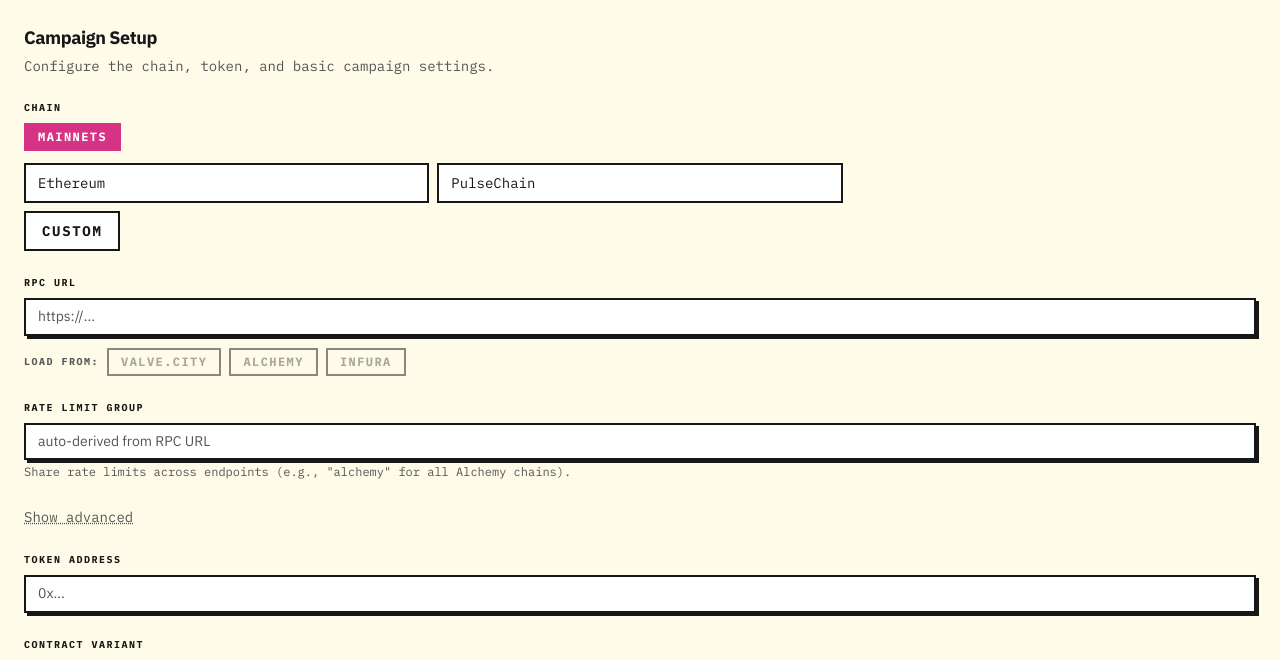
Test case: CampaignStep › shows "Not a valid ERC-20" when probe returns null
In the field with placeholder "0x...": coordinates (640, 594) x1=24 y1=575 x2=1256 y2=612, type "0xA0b86991c6218b36c1d19D4a2e9Eb0cE3606eB48"
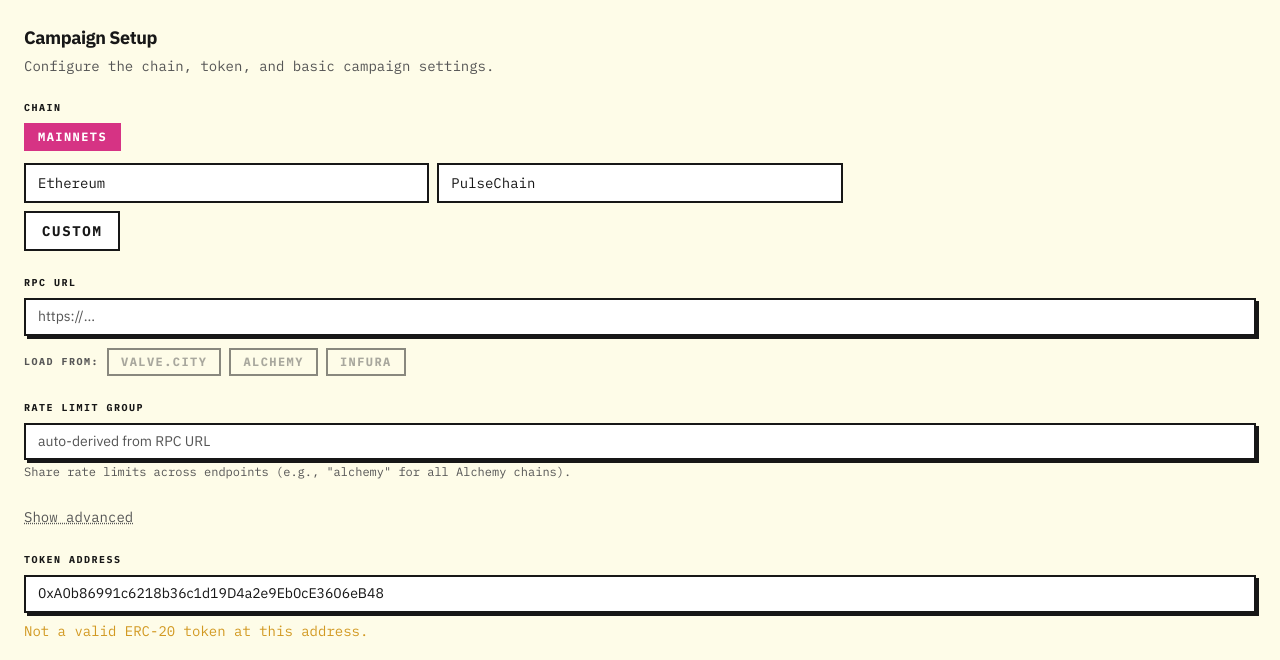
Check: the text "Not a valid ERC-20 token at this address." is shown, box x1=24 y1=622 x2=368 y2=640
